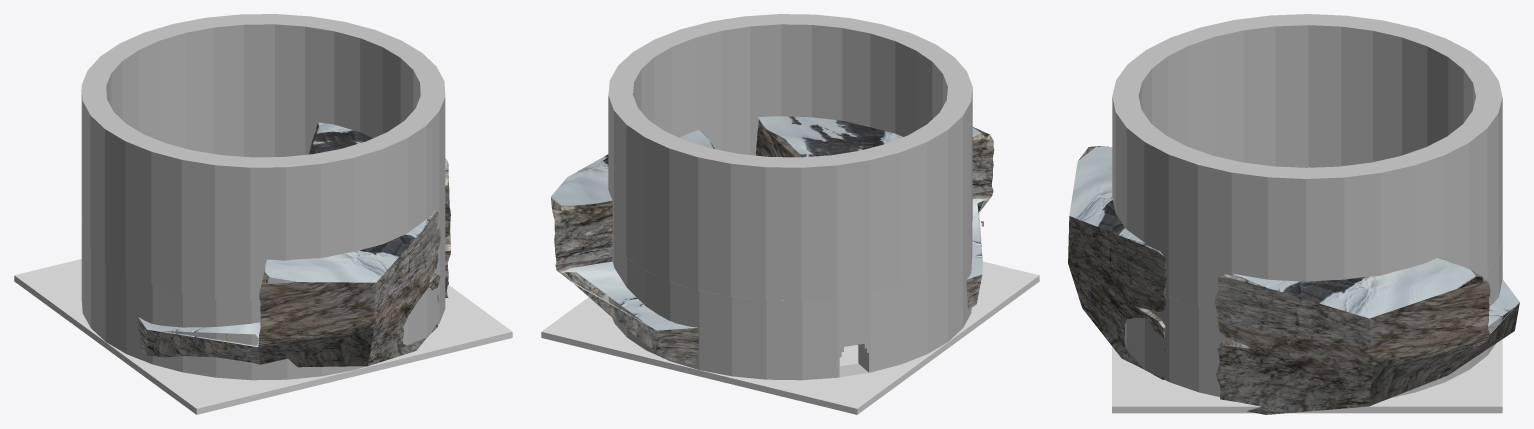
Rendered from environement.dae.
3 views of the same model, side by side, from view 1: azimuth 30°, elevation 25°; view 2: azimuth 150°, elevation 25°; view 3: azimuth 270°, elevation 25° (orthographic). The views are drawn at different scales.
Parts seen in each view (by area): view 1: wall.001, Cube.001, wall, floor, Cube; view 2: wall.001, wall, floor, Cube, Cube.001, door_module; view 3: wall.001, Cube, Cube.001, floor, wall.
Boxes of the visible parts, left/top/right/bottom form: wall.001: left=81, top=14, right=445, bottom=301; Cube.001: left=138, top=211, right=440, bottom=367; wall: left=81, top=222, right=445, bottom=380; floor: left=14, top=259, right=512, bottom=414; Cube: left=309, top=122, right=450, bottom=297; wall.001: left=608, top=14, right=972, bottom=301; wall: left=608, top=225, right=972, bottom=380; floor: left=541, top=261, right=1039, bottom=414; Cube: left=551, top=129, right=714, bottom=364; Cube.001: left=755, top=116, right=994, bottom=310; door_module: left=837, top=336, right=870, bottom=377; wall.001: left=1112, top=14, right=1502, bottom=311; Cube: left=1214, top=257, right=1519, bottom=414; Cube.001: left=1068, top=146, right=1167, bottom=379; floor: left=1112, top=339, right=1502, bottom=413; wall: left=1124, top=167, right=1502, bottom=397.
Size of the model in its own units: 387 by 401 by 232.
